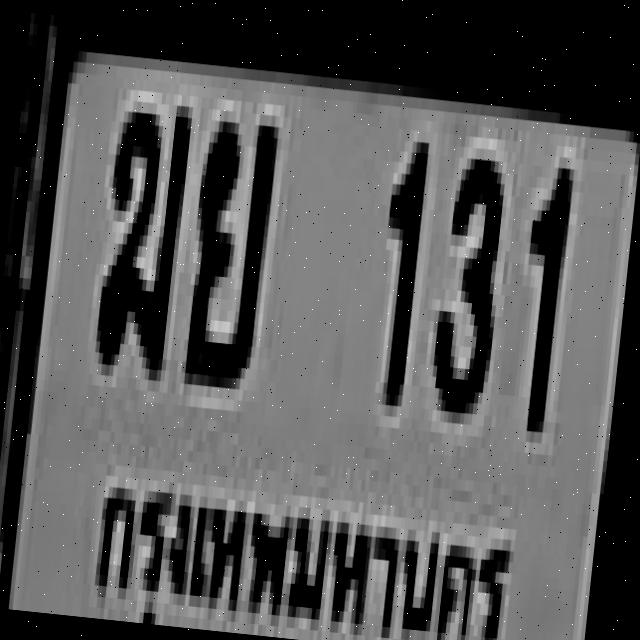1: (507, 154, 571, 421), (366, 123, 426, 390)
15KhorRaKhang: (90, 93, 189, 364)
3: (426, 146, 508, 404)
43YorYak: (177, 103, 276, 374)
Bangkok: (78, 454, 530, 640)
